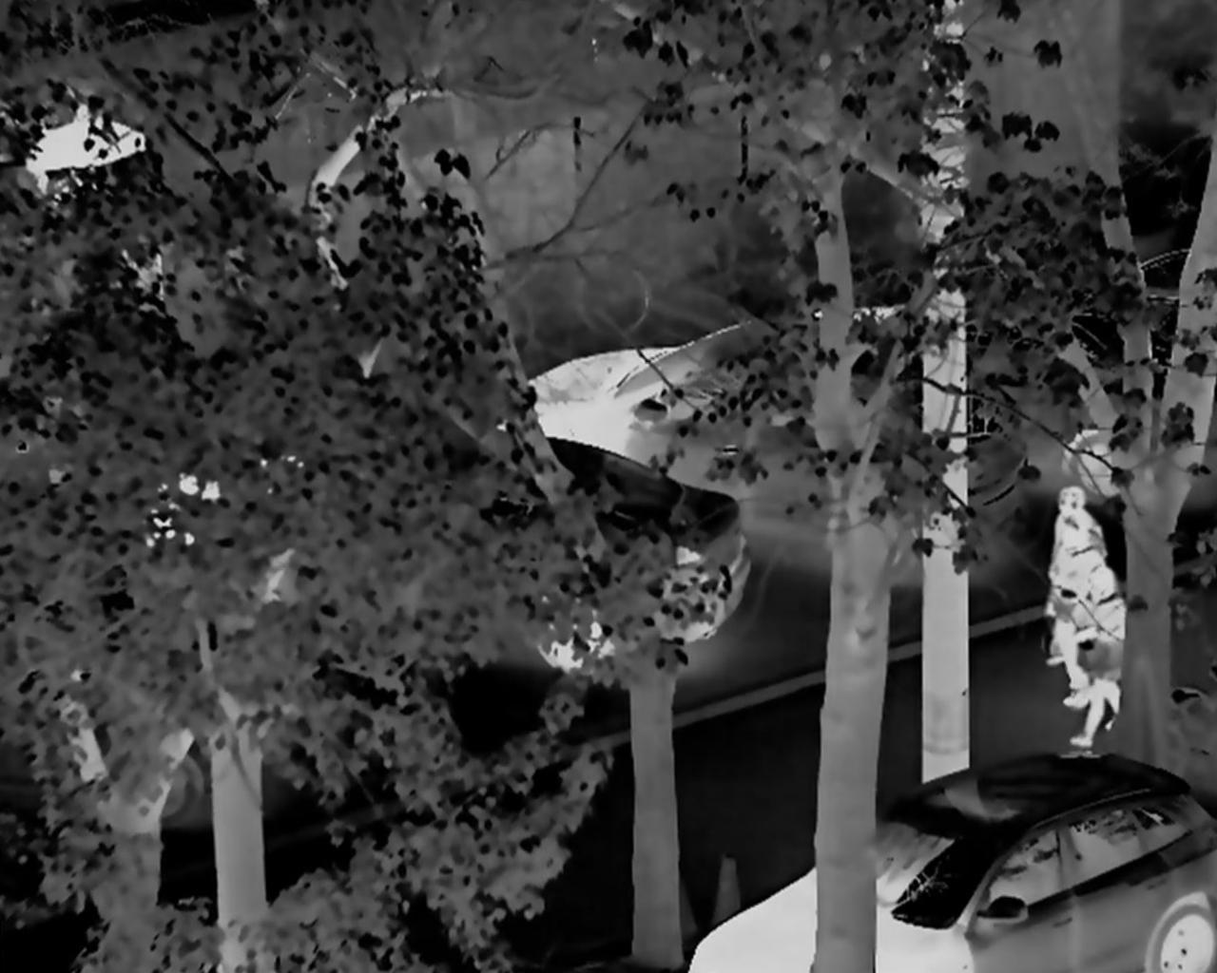person: (1066, 536, 1146, 775), (1042, 484, 1100, 683)
